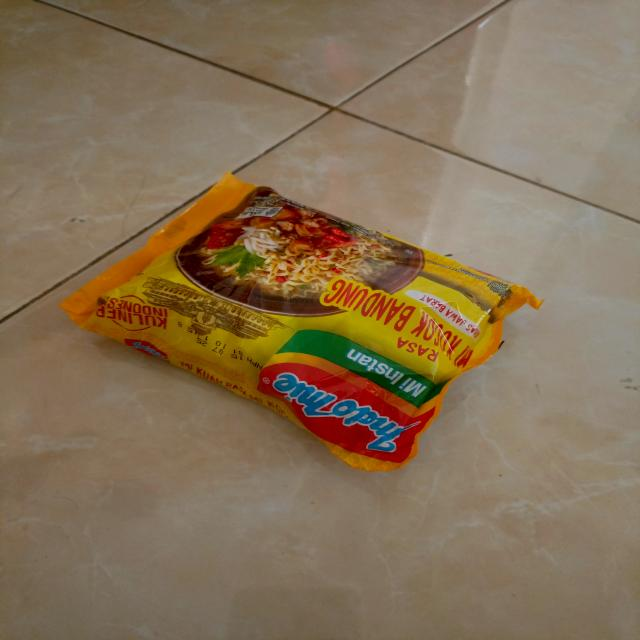indomie-mie-kocok-bandung: (57, 173, 552, 477)
